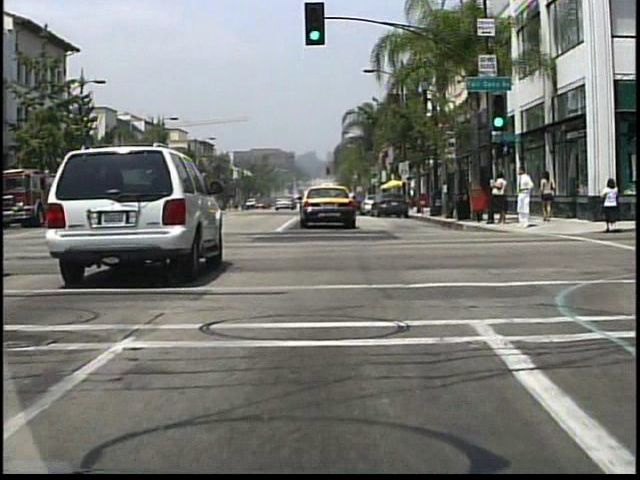person: (514, 168, 533, 229), (599, 177, 618, 234), (492, 169, 509, 229), (539, 171, 556, 224), (407, 188, 417, 214)
